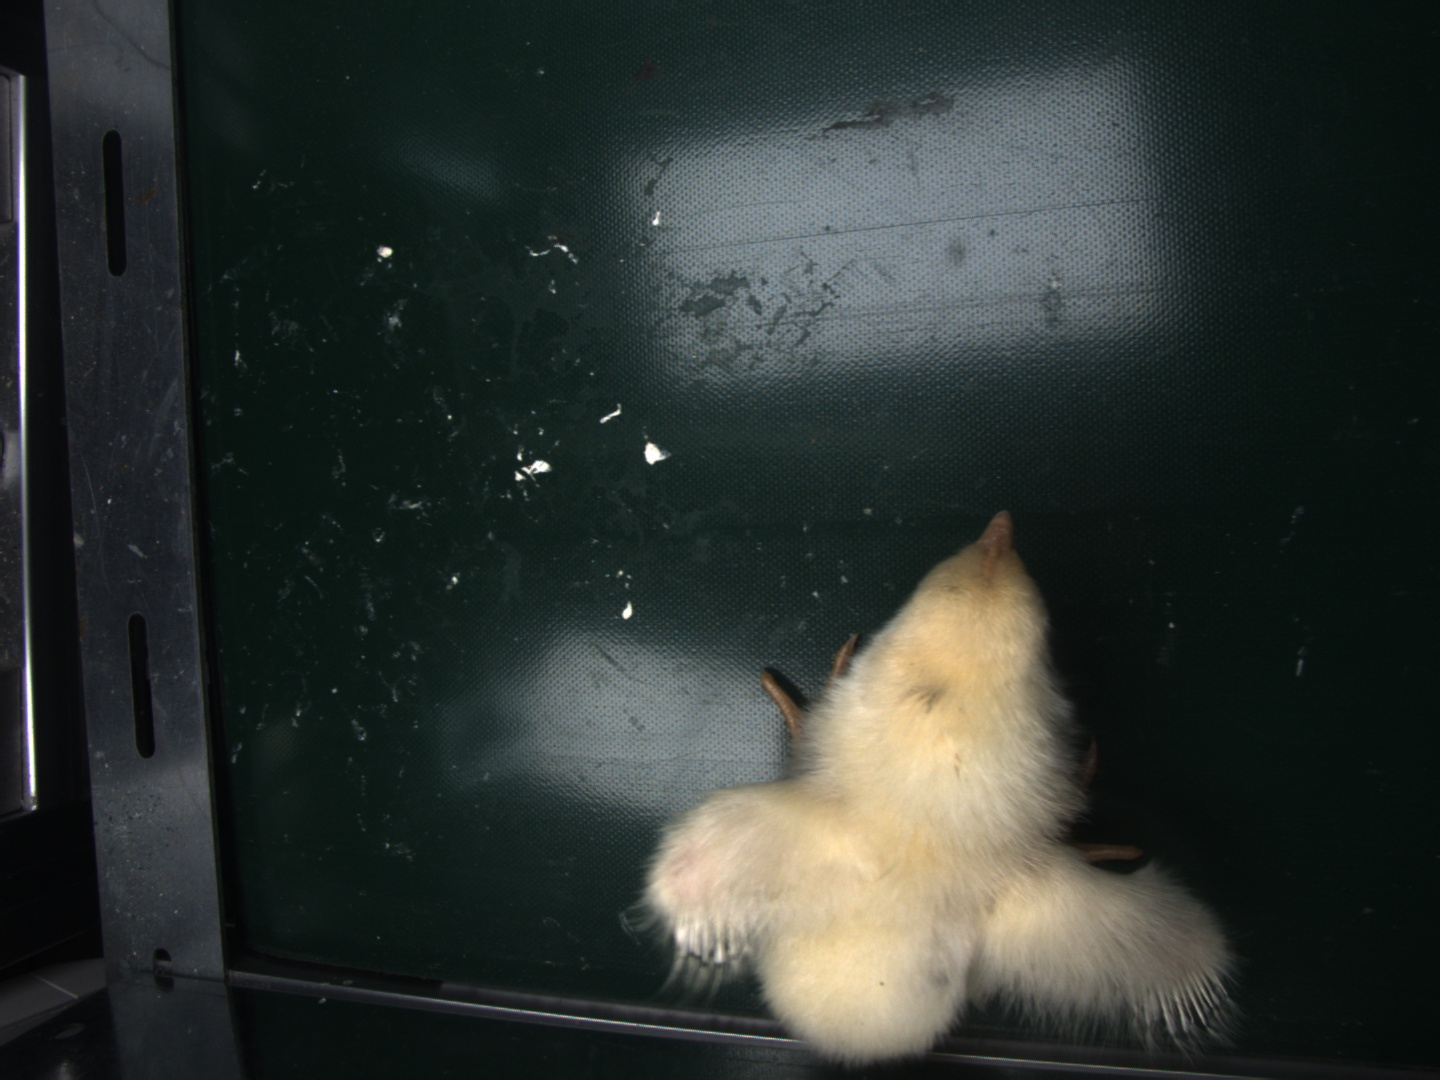male: (1136, 963, 1231, 1036)
